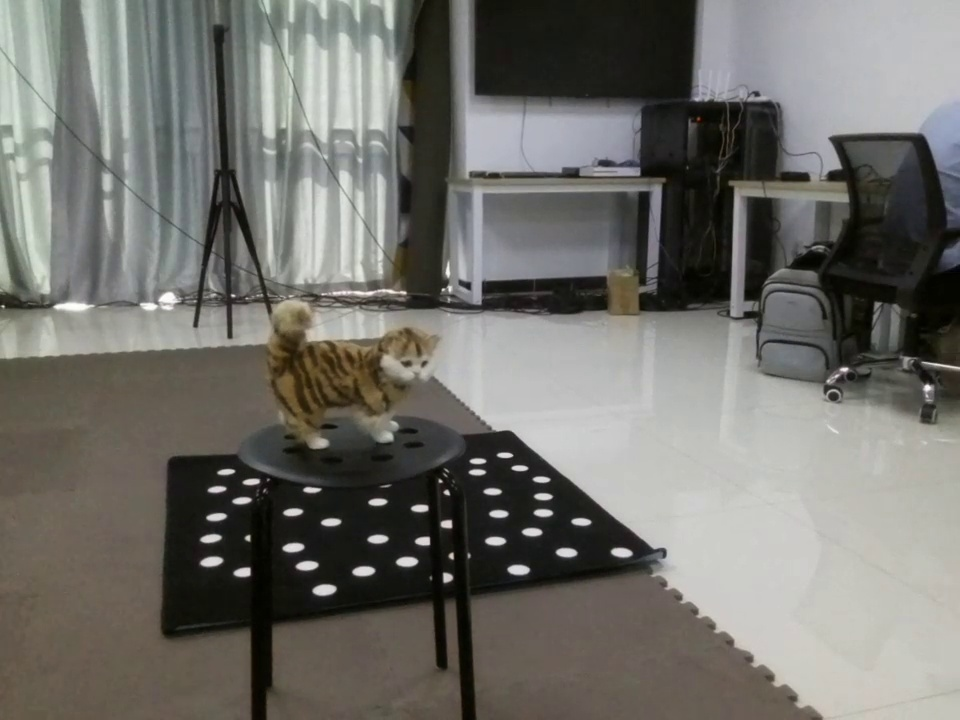cat: (237, 300, 457, 447)
